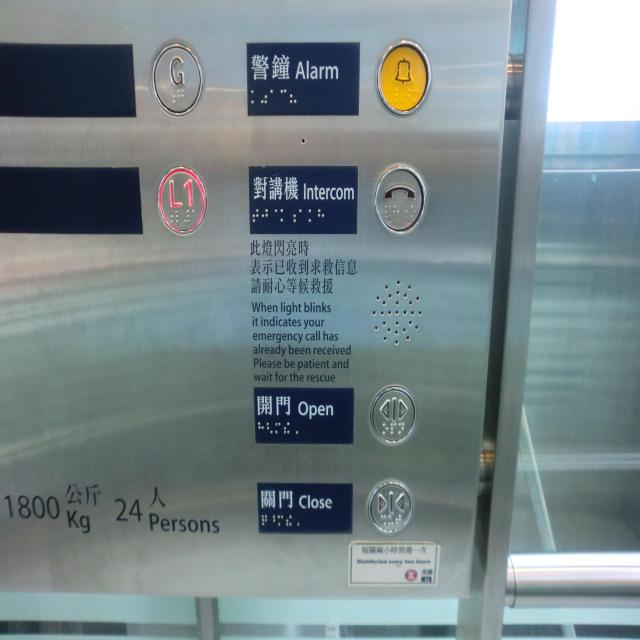G: (149, 38, 205, 116)
L1: (153, 160, 209, 239)
alarm: (374, 37, 433, 119)
call: (372, 158, 427, 236)
close: (365, 476, 415, 538)
open: (366, 380, 419, 449)
